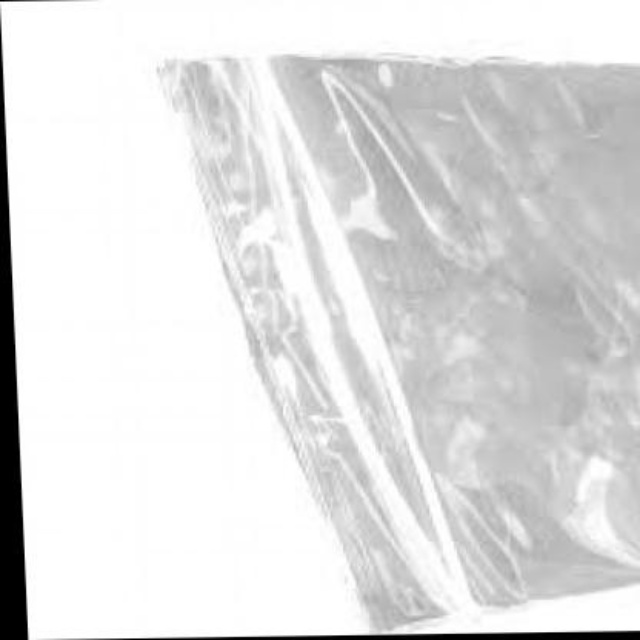trash: (2, 0, 638, 637), (162, 57, 638, 625)
